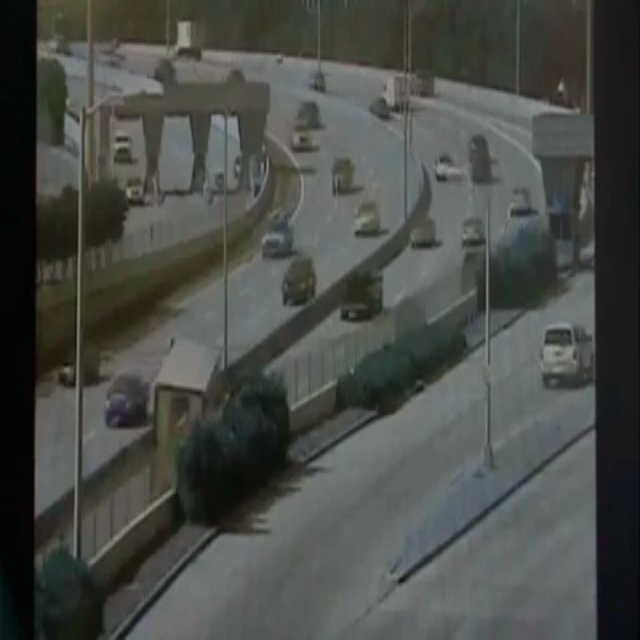acc: (145, 334, 224, 510)
